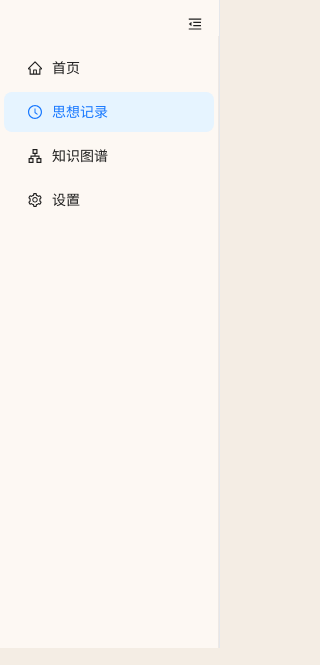
Test: Sidebar › toggles collapsed state manually and uses the new 思想记录 label
The image size is (320, 665).
Check: the text "思想记录" is shown, box [52,103,108,120]
Click the button named "收起侧边栏". click: (195, 24)
box: [183,12,207,36]
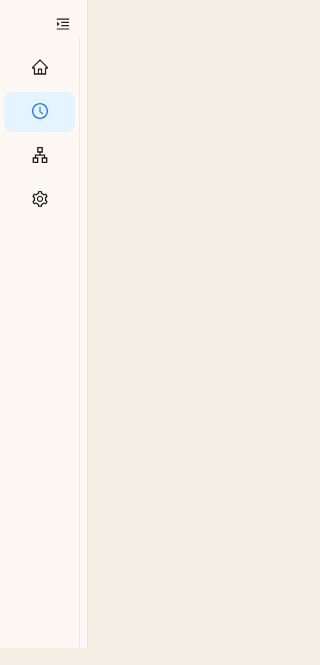
Check: the button named "展开侧边栏" is shown, box [51,12,75,36]
